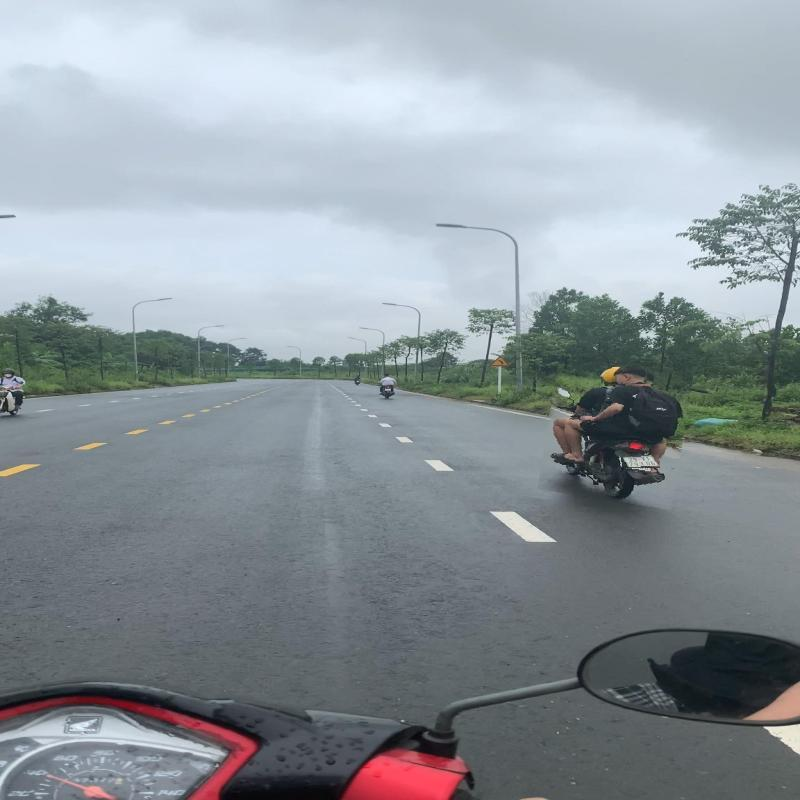helmet: (601, 366, 623, 386)
licenseplate: (621, 455, 660, 468)
motorcyclist: (544, 359, 688, 506)
nohelmet: (614, 364, 647, 384)
